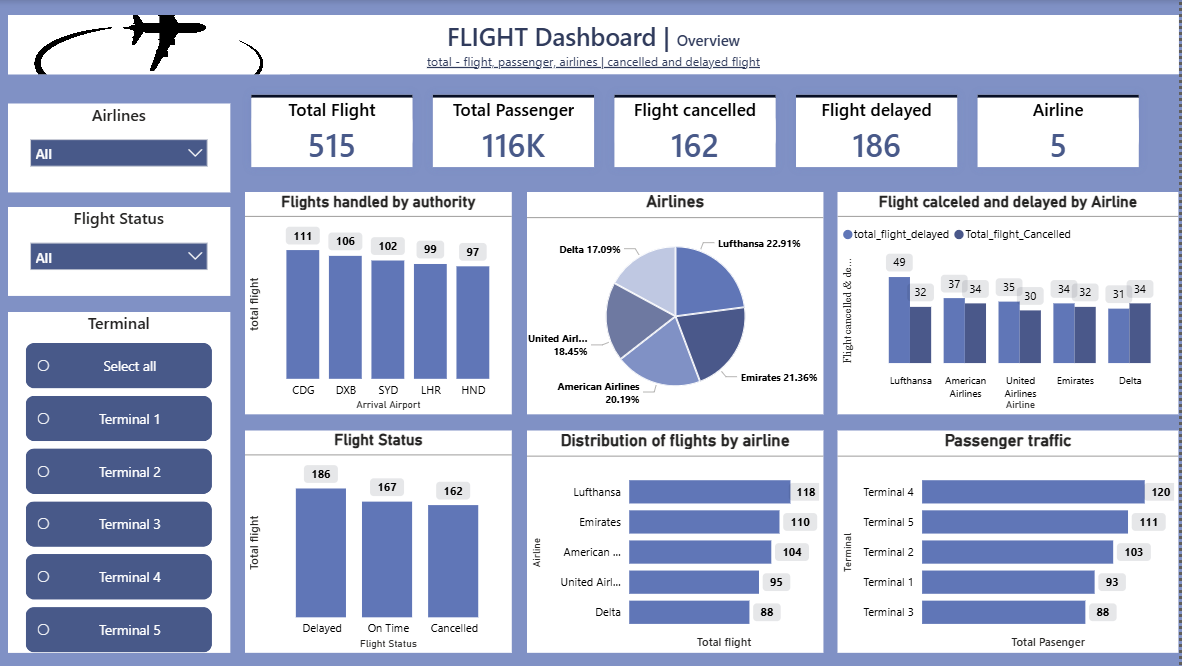

The page's visual inventory and layout, read from the dashboard file:
{"tool":"powerbi","page":{"name":"Dashboard","canvas":[1280,720],"ordinal":0},"visuals":[{"type":"barChart","title":"Passenger traffic","fields":{"Category":["power bi flight.Terminal"],"Y":["CountNonNull(power bi flight.Passenger Count)"]},"box":[912,464,368,240],"z":0},{"type":"columnChart","title":"Flight Status","fields":{"Category":["power bi flight.Flight Status"],"Y":["CountNonNull(power bi flight.Actual Arrival Time)"]},"box":[272,464,288,240],"z":1000},{"type":"clusteredBarChart","title":"Distribution of flights by airline","fields":{"Category":["power bi flight.Airline"],"Y":["CountNonNull(power bi flight.Flight ID)"]},"box":[576,464,320,240],"z":2000},{"type":"columnChart","title":"Flights handled by authority","fields":{"Y":["CountNonNull(power bi flight.Flight ID)"],"Category":["power bi flight.Arrival Airport"]},"box":[272,208,288,240],"z":3000},{"type":"pieChart","title":"Airlines","fields":{"Category":["power bi flight.Airline"],"Y":["CountNonNull(power bi flight.Flight ID)"]},"box":[576,208,320,240],"z":4000},{"type":"clusteredColumnChart","title":"Flight calceled and delayed by Airline","fields":{"Category":["power bi flight.Airline"],"Y":["power bi flight.total_flight_delayed","power bi flight.calceled"]},"box":[912,208,368,240],"z":5000},{"type":"slicer","title":"Airlines","fields":{"Values":["power bi flight.Airline"]},"box":[16,112,240,96],"z":6000},{"type":"textbox","box":[16,16,1264,64],"z":7000},{"type":"cardVisual","fields":{"Data":["CountNonNull(power bi flight.Flight ID)","Sum(power bi flight.Passenger Count)","power bi flight.cancelled","power bi flight.total_flight_delayed","Count(power bi flight.Airline)"]},"box":[256,80,1024,144],"z":8000},{"type":"slicer","title":"Flight Status","fields":{"Values":["power bi flight.Flight Status"]},"box":[16,224,240,96],"z":9000},{"type":"advancedSlicerVisual","title":"Terminal","fields":{"Values":["power bi flight.Terminal"]},"box":[16,336,240,368],"z":10000},{"type":"image","box":[16,16,304,64],"z":11000}]}

Visuals, with their boxes in screenshot pixels (x1, y1, x2, y2), scaled from the page's 1280x720 canvas onto the 1182x666 screenshot:
"Passenger traffic" barChart: x1=842, y1=429, x2=1181, y2=651
"Flight Status" columnChart: x1=251, y1=429, x2=517, y2=651
"Distribution of flights by airline" clusteredBarChart: x1=532, y1=429, x2=827, y2=651
"Flights handled by authority" columnChart: x1=251, y1=192, x2=517, y2=414
"Airlines" pieChart: x1=532, y1=192, x2=827, y2=414
"Flight calceled and delayed by Airline" clusteredColumnChart: x1=842, y1=192, x2=1181, y2=414
"Airlines" slicer: x1=15, y1=104, x2=236, y2=192
textbox: x1=15, y1=15, x2=1181, y2=74
cardVisual - CountNonNull(power bi flight.Flight ID) x Sum(power bi flight.Passenger Count): x1=236, y1=74, x2=1181, y2=207
"Flight Status" slicer: x1=15, y1=207, x2=236, y2=296
"Terminal" advancedSlicerVisual: x1=15, y1=311, x2=236, y2=651
image: x1=15, y1=15, x2=296, y2=74
